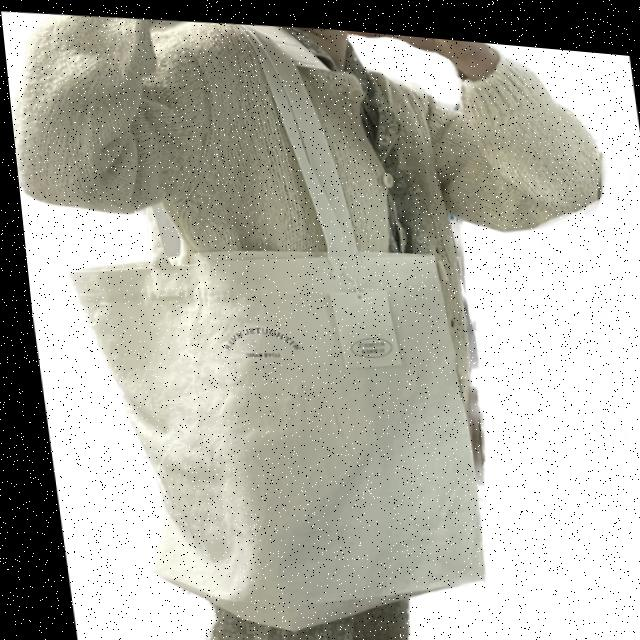ecobag: (11, 1, 510, 640)
